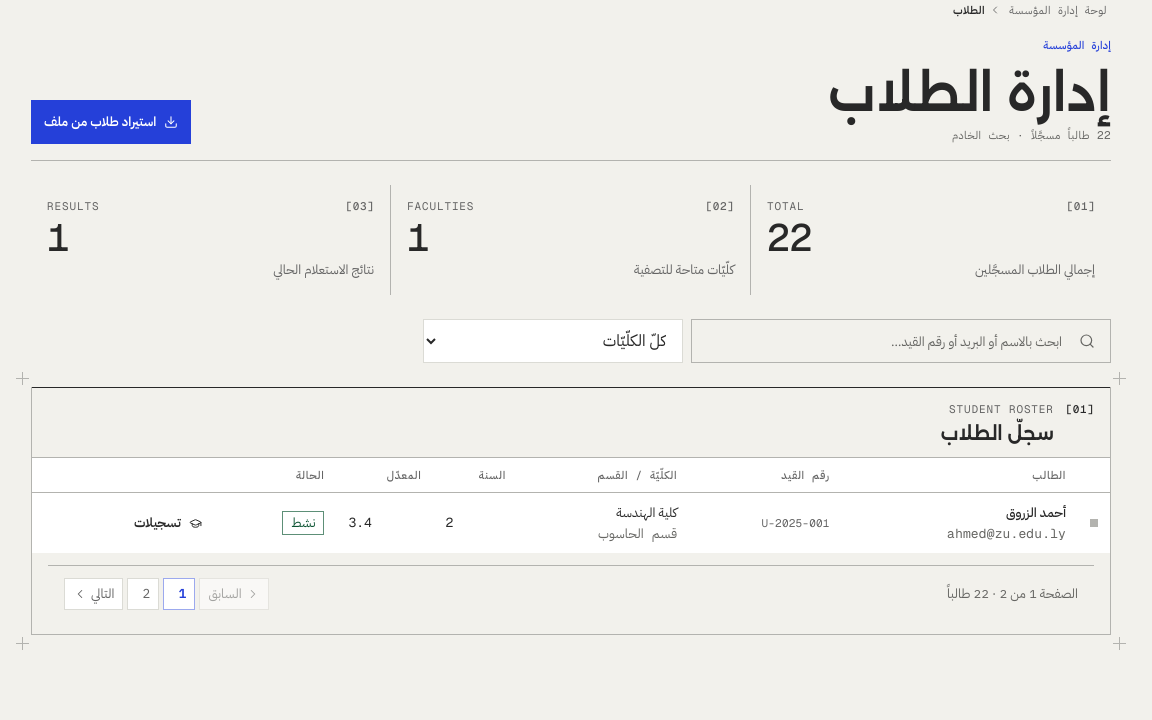
Scenario: EnrollmentModal — the drop gate (r157 / 6A9 #4) › asks before deleting: danger dialog names the course and confirms with «إلغاء نهائي»
This screenshot has width=1152, height=720.
Click the button with aria-label "تسجيلات أحمد الزروق": coordinates (168, 523) 121,501 -> 215,545
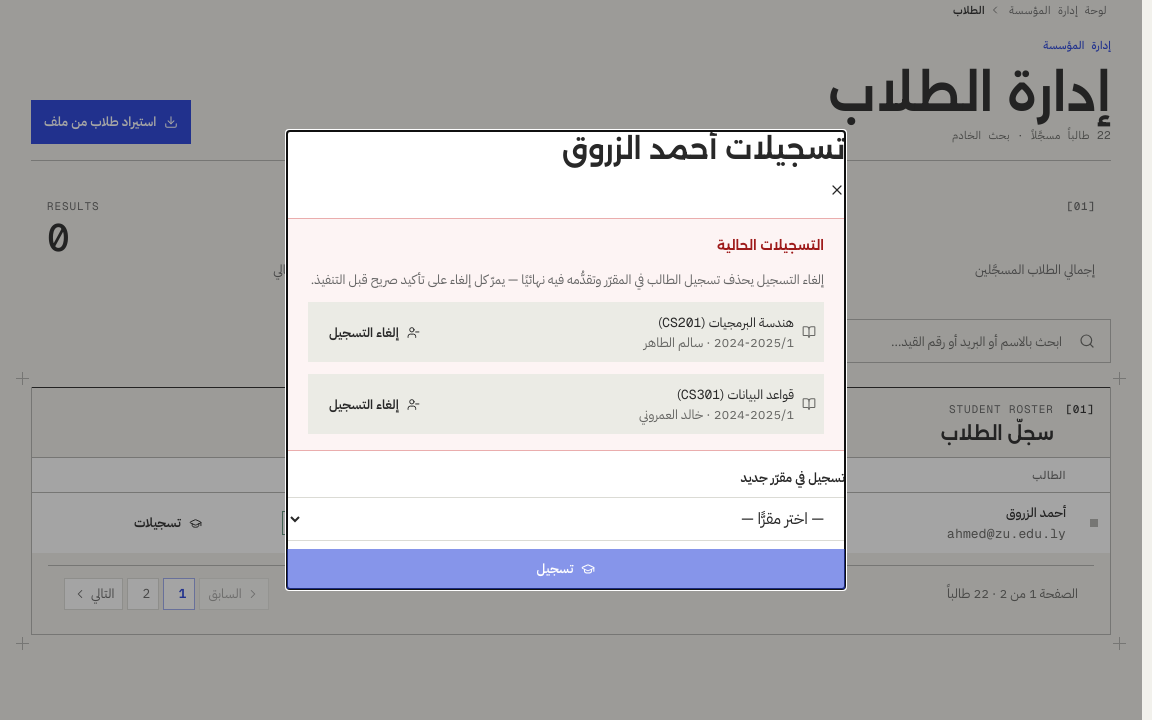
Click the button "إلغاء التسجيل" in the row of "الطاهر": coordinates (374, 332) 316,310 -> 433,354
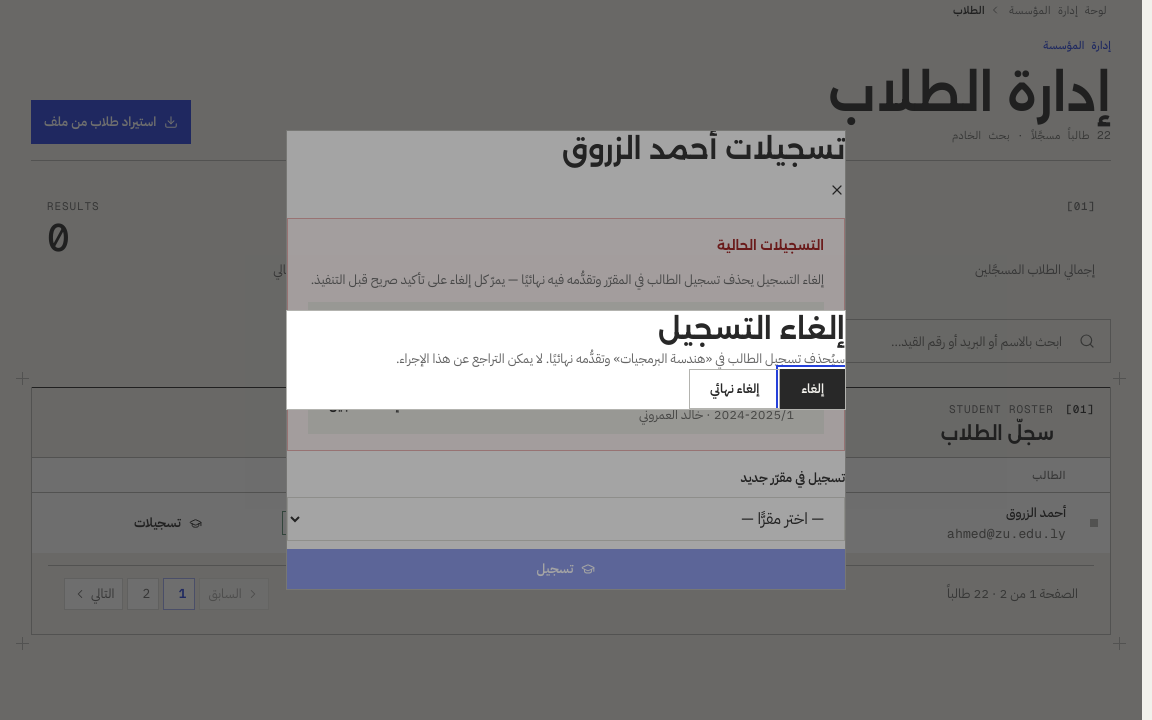
Result: the text "سيُحذف تسجيل الطالب في «هندسة البرمجيات» وتقدُّمه نهائيًا" is shown at 396,349 -> 845,368
Result: the button "إلغاء نهائي" is shown at 689,369 -> 780,409
// Cancel closes the dialog ONLY — no DELETE ever fires.
Click the button "إلغاء": coordinates (813, 389) 780,369 -> 845,409
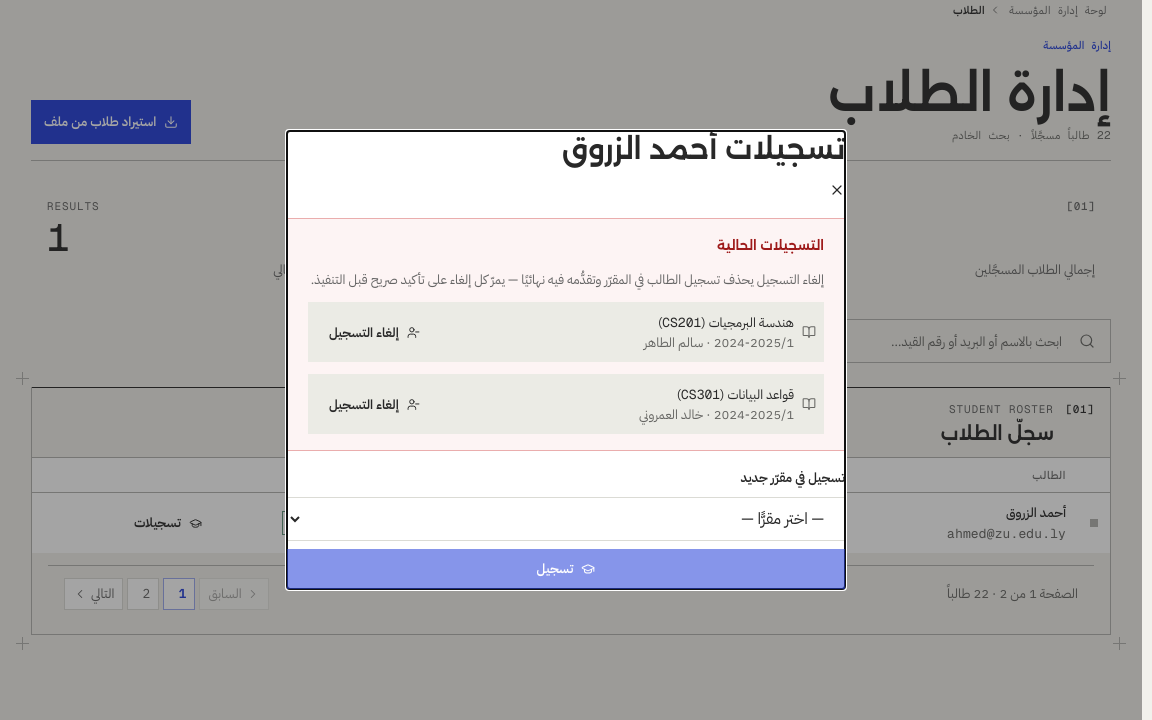
Result: the heading "تسجيلات أحمد الزروق" is shown at 562,131 -> 845,166
Result: the button "إلغاء نهائي" is gone
